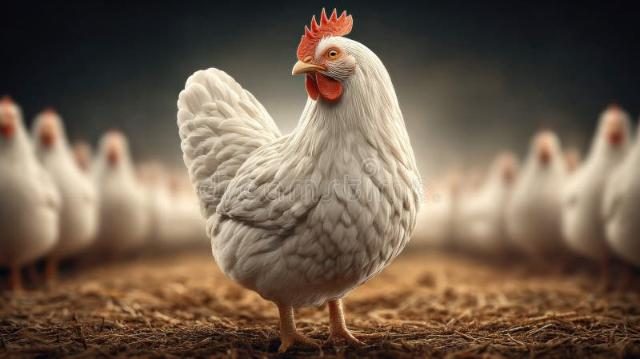Chicken: (177, 6, 425, 355)
